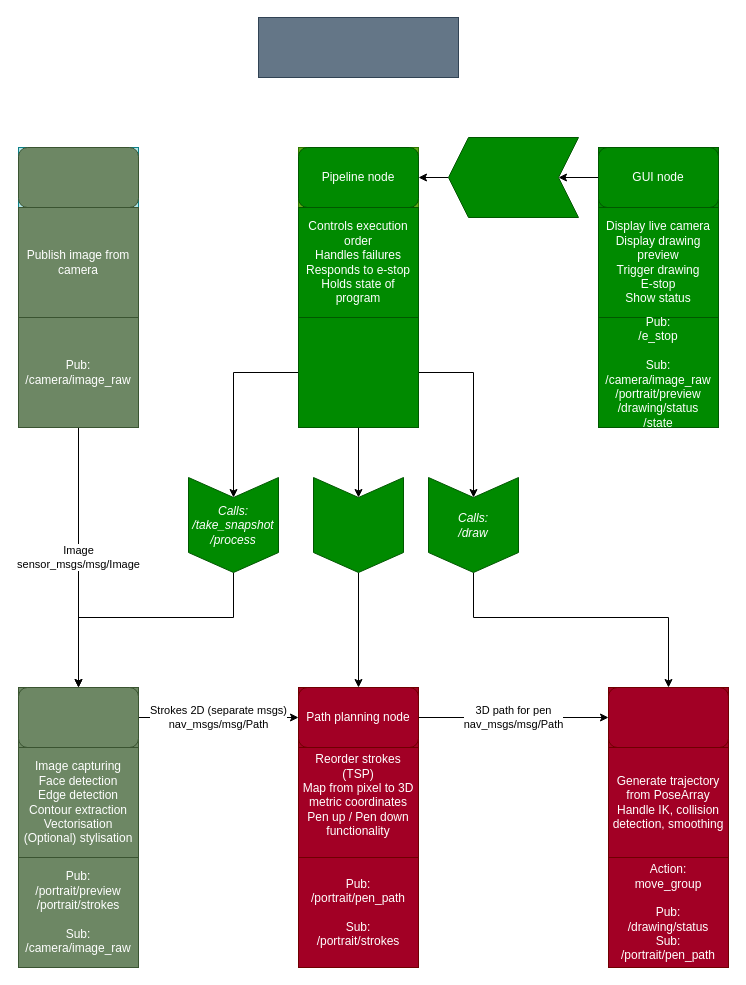
Some shapes in this 746 by 985 pixel diagram are drawn without their labels. The box of each missing label's shape, as (x1, y1, x2, y2) in pixels:
Calls: /capture_portrait /start_drawing /stop_drawing: (448, 136, 578, 218)
Calls: /create_path: (312, 476, 404, 572)
Camera node: (18, 146, 138, 208)
IllustrateUR3 System Architecture: (258, 16, 458, 78)
Motion node (MoveIt interface): (608, 686, 728, 748)
Portrait processing node: (18, 686, 138, 748)
Pub: /state Sub: /e-stop: (298, 316, 418, 428)
